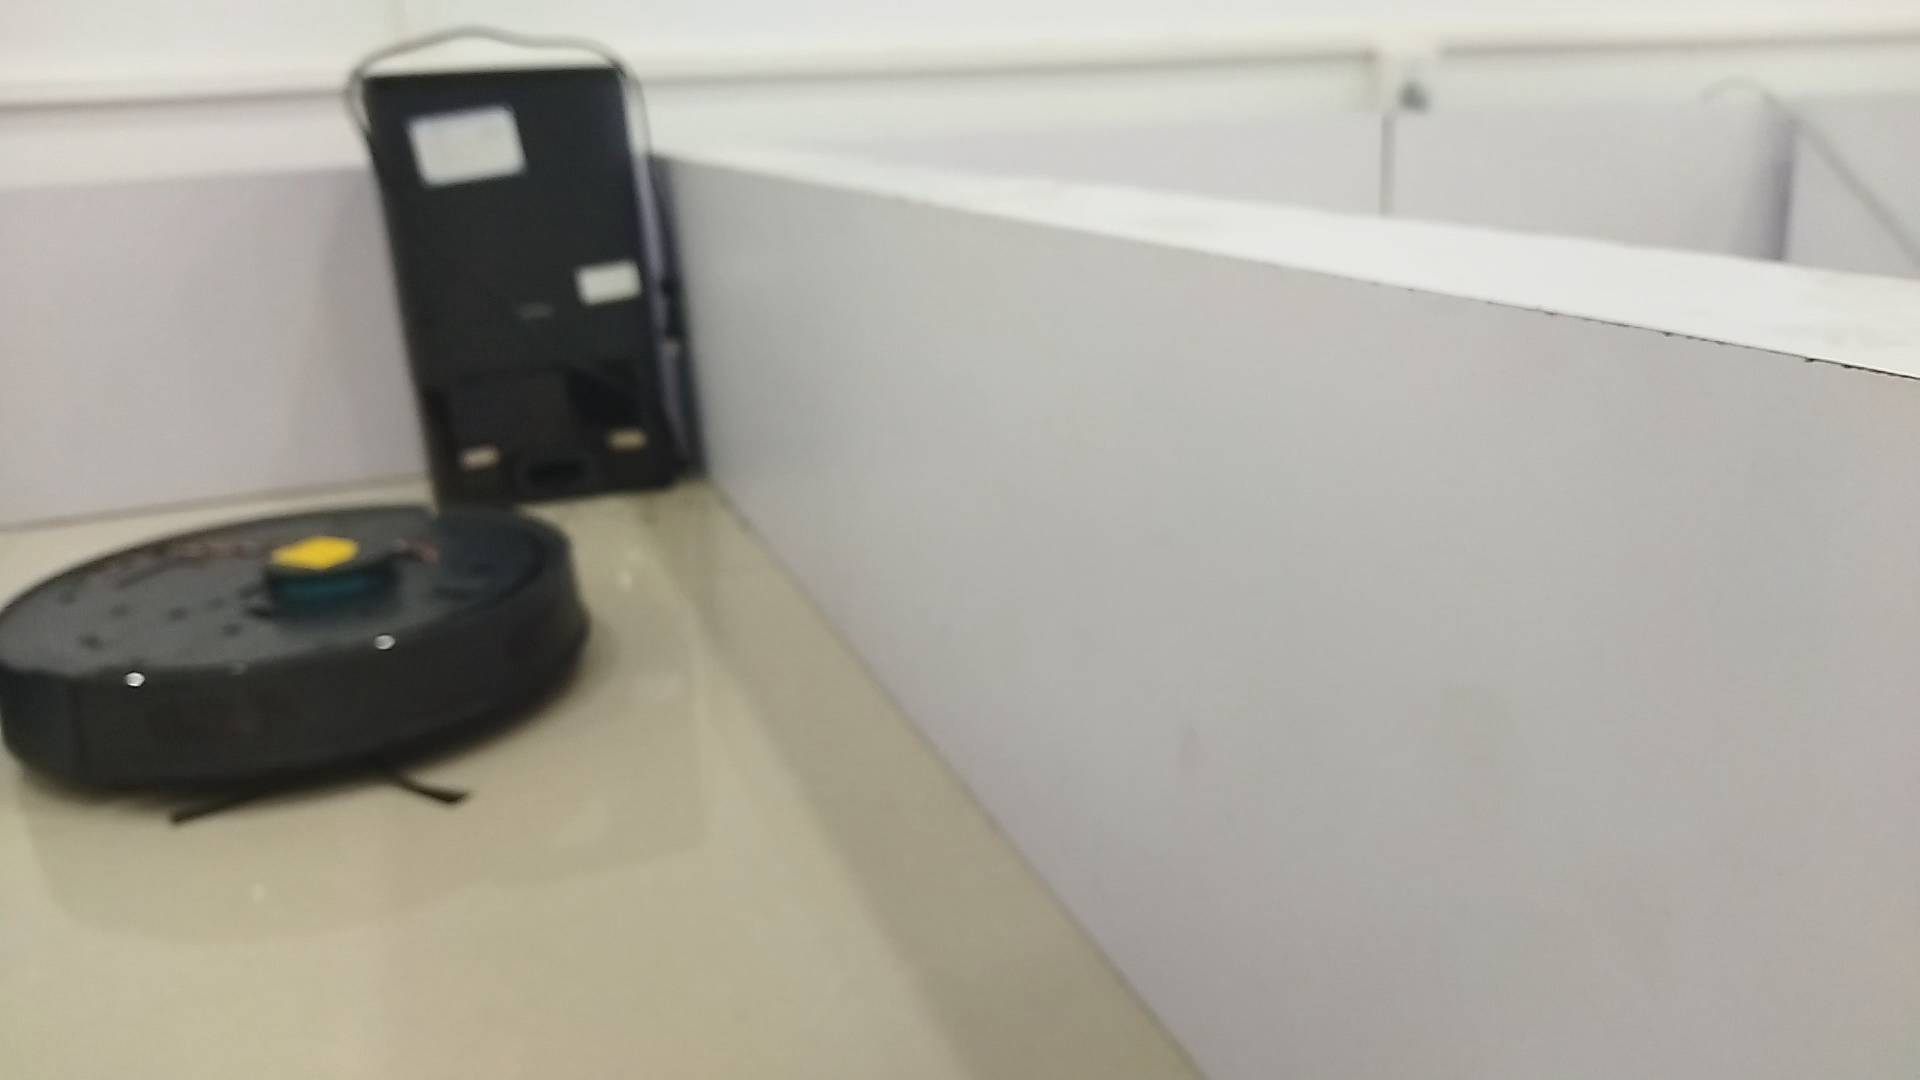dust collecting barrel: (363, 65, 699, 510)
